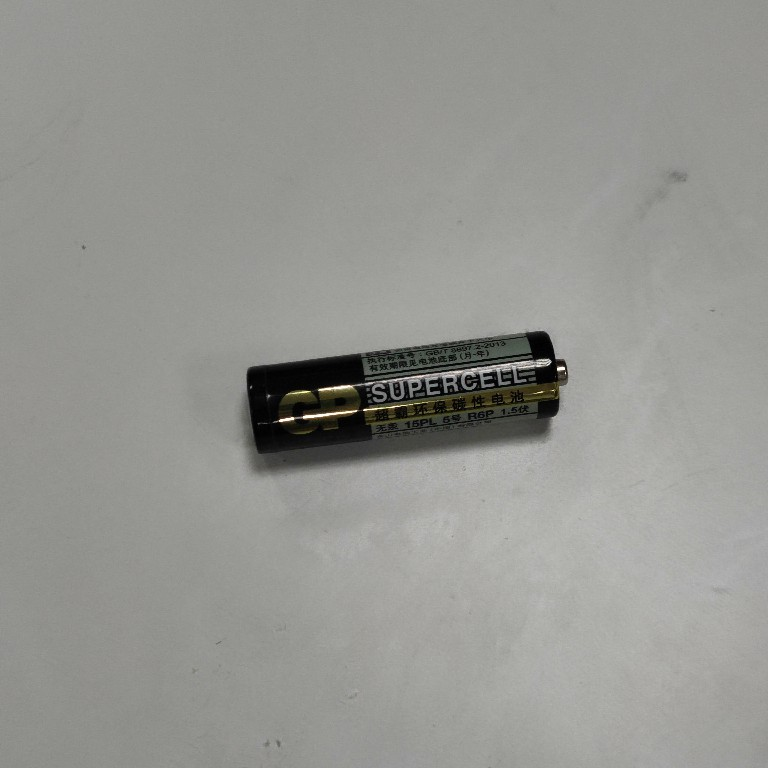charge: (241, 328, 577, 459)
